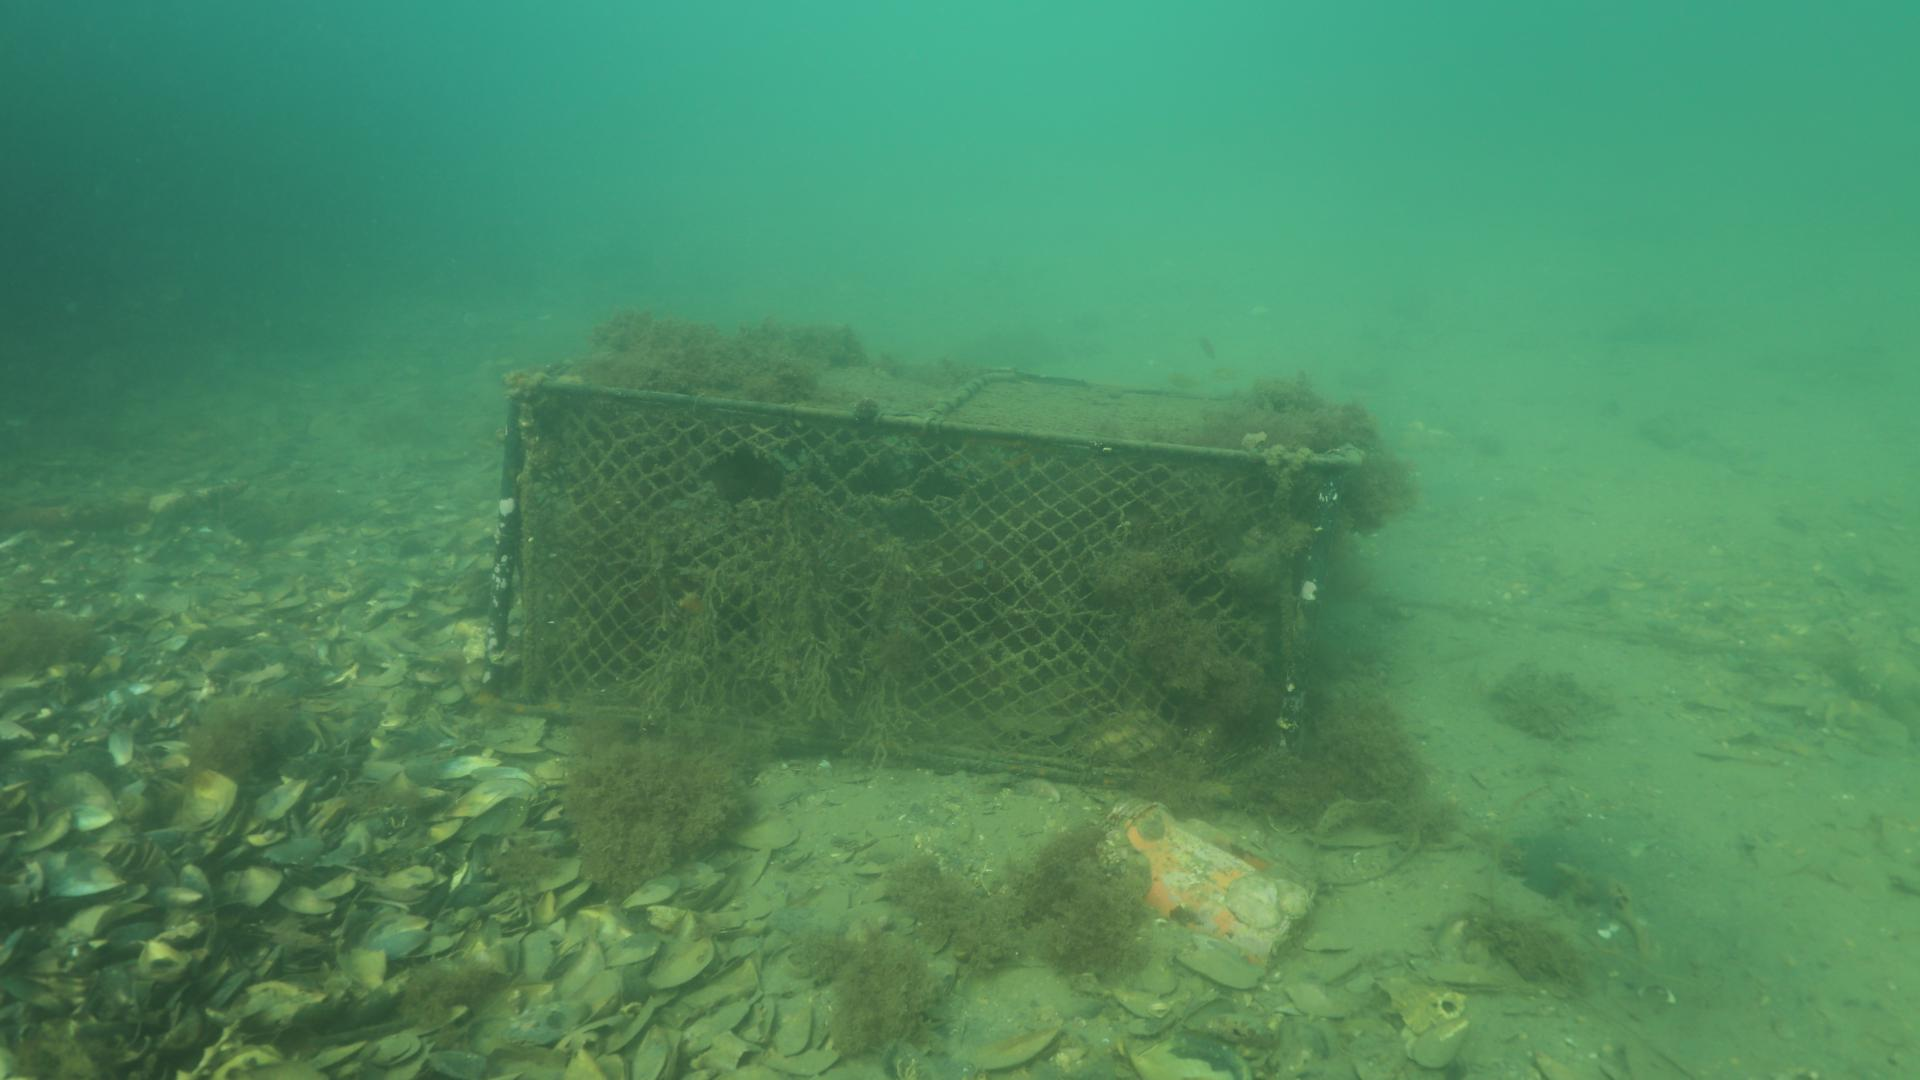rectangular fish trap: (491, 313, 1395, 824)
